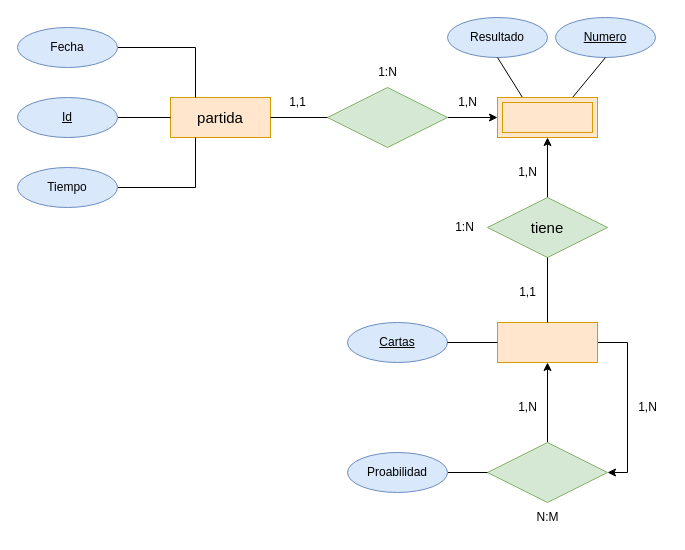
Some shapes in this 685 by 550 pixel diagram are drawn without their labels. The centre of each missing label's shape, as x and y in pixels:
"compara" goes at pixel 547 472.
"E juega" goes at pixel 387 117.
"mano" goes at pixel 547 342.
"ronda" goes at pixel 547 117.
